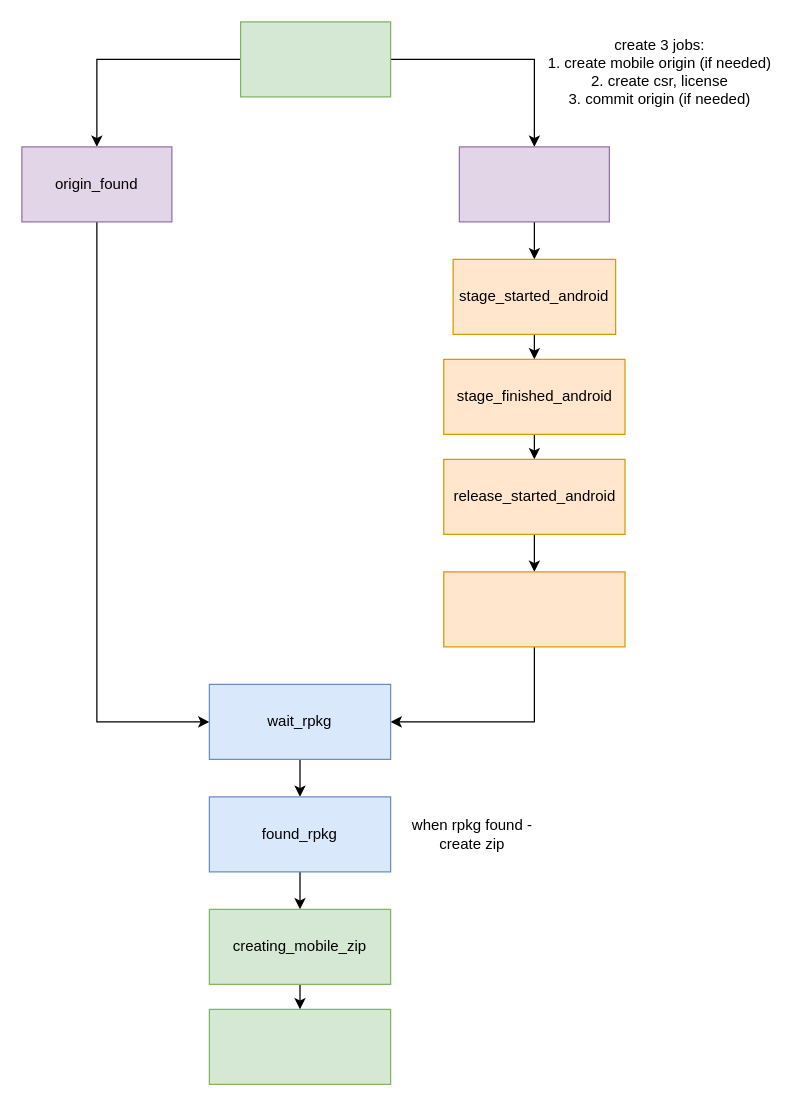
Some shapes in this 800 by 1106 pixel diagram are drawn without their labels. Each missing label, with the centre of its shape:
commit_finished: [533,184]
done: [299,1046]
processing: [315,59]
release_finished_android: [533,609]
